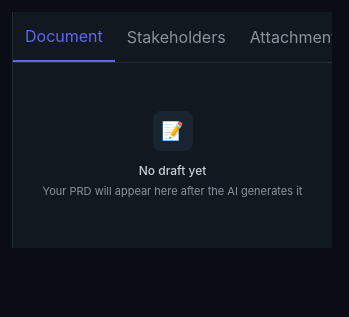
Test: ContextPanel › switches to stakeholders tab
Click the button with test id "tab-stakeholders". click: {"x": 176, "y": 37}
box: [115,12,238,62]
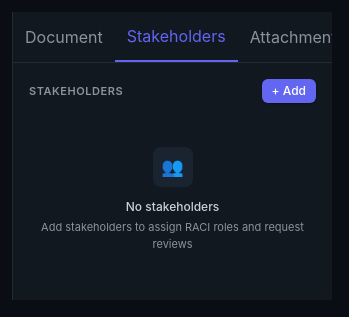
Now the element with test id "stakeholders-tab" is shown, box [29,79,316,284]
Now the text "No stakeholders" is shown, box [126,199,219,215]
